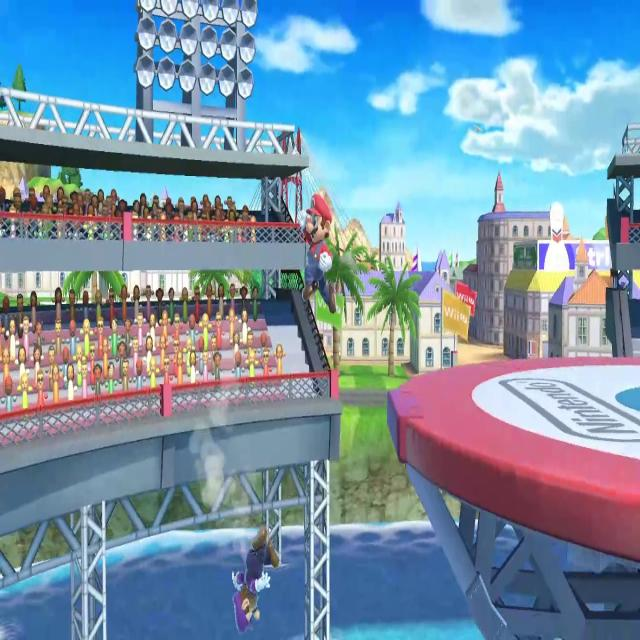Mario: (228, 523, 283, 640)
Mario-jump: (294, 179, 342, 318)
